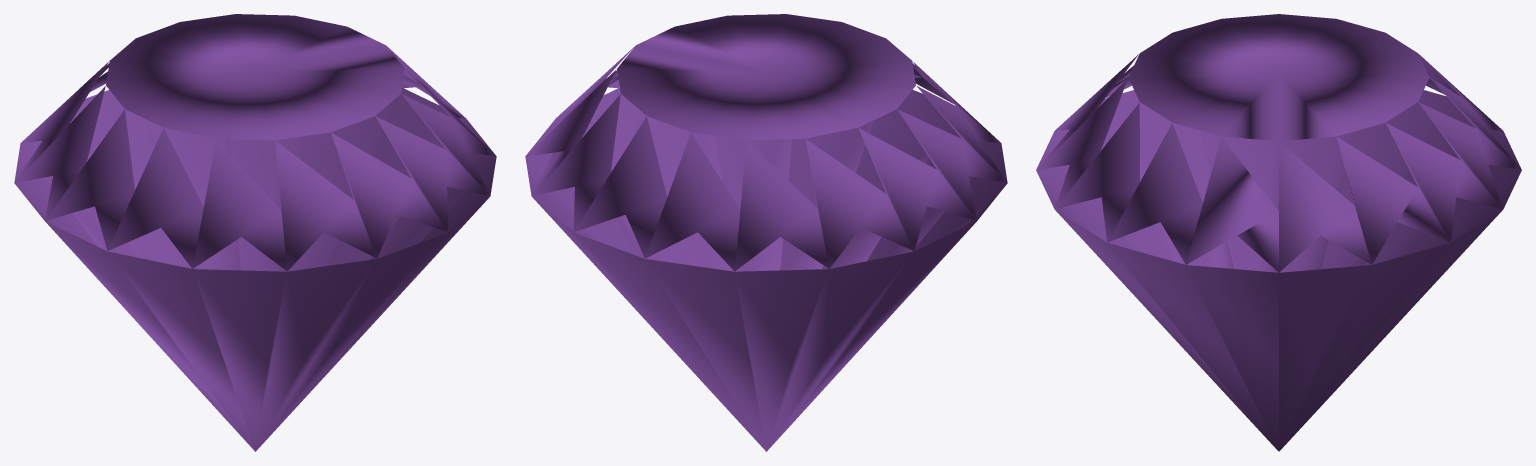
The model's file is brilliant-purple.glb.
3 renders of one model, left to right at view 1: azimuth 30°, elevation 25°; view 2: azimuth 150°, elevation 25°; view 3: azimuth 270°, elevation 25°, orthographic.
Parts seen in each view (by area): view 1: gem; view 2: gem; view 3: gem.
Boxes of the visible parts, bbox=[...] form: gem: bbox=[14, 14, 496, 451]; gem: bbox=[525, 14, 1007, 451]; gem: bbox=[1036, 14, 1521, 451].
Bounding box in the file's own units: 2 × 1.72 × 2.
